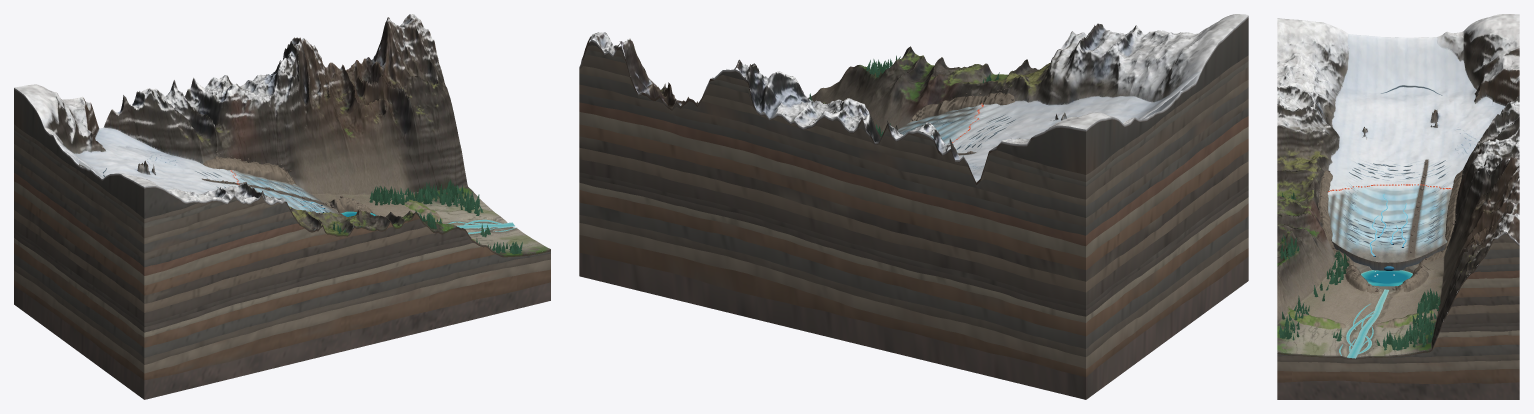
Rendered from glaciers.glb.
3 views of the same model, side by side, from view 1: azimuth 30°, elevation 25°; view 2: azimuth 150°, elevation 25°; view 3: azimuth 270°, elevation 25° (orthographic). The views are drawn at different scales.
Visible parts, largest first — view 1: Terrain, Zone_Accumulation, Trees, Zone_Ablation, Moraine_Lateral; view 2: Terrain, Zone_Accumulation, Zone_Ablation, Moraine_Lateral; view 3: Terrain, Zone_Accumulation, Zone_Ablation, Trees, Moraine_Lateral, Glacier_Crevasses, Moraine_TerminalOld, Moraine_Terminal, Glacier_Margin, Melt_Lake, River_Main, Moraine_Medial (+2 smaller).
Part boxes in pixels (left/top/right/bottom): Terrain: left=14, top=14, right=550, bottom=399; Zone_Accumulation: left=59, top=127, right=245, bottom=201; Trees: left=333, top=179, right=522, bottom=254; Zone_Ablation: left=231, top=170, right=353, bottom=227; Moraine_Lateral: left=201, top=151, right=345, bottom=213; Terrain: left=579, top=14, right=1248, bottom=399; Zone_Accumulation: left=947, top=72, right=1200, bottom=180; Zone_Ablation: left=898, top=104, right=982, bottom=145; Moraine_Lateral: left=909, top=88, right=1014, bottom=122; Terrain: left=1277, top=14, right=1519, bottom=399; Zone_Accumulation: left=1328, top=34, right=1505, bottom=191; Zone_Ablation: left=1327, top=185, right=1451, bottom=262; Trees: left=1279, top=192, right=1440, bottom=350; Moraine_Lateral: left=1318, top=170, right=1463, bottom=274; Glacier_Crevasses: left=1343, top=85, right=1445, bottom=244; Moraine_TerminalOld: left=1287, top=306, right=1433, bottom=329; Moraine_Terminal: left=1345, top=265, right=1428, bottom=293; Glacier_Margin: left=1332, top=126, right=1446, bottom=270; Melt_Lake: left=1361, top=270, right=1412, bottom=286; River_Main: left=1347, top=289, right=1389, bottom=358; Moraine_Medial: left=1408, top=159, right=1428, bottom=257.
Size of the model in its own units: 7.27 by 3.68 by 4.
Materials: 10 (3 with a texture image).
